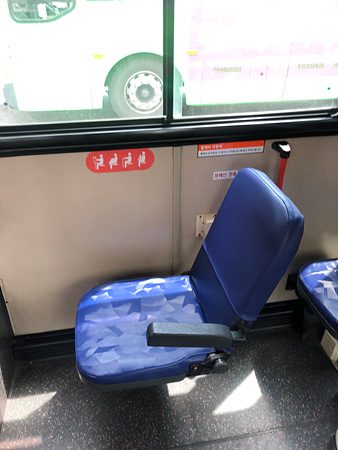seat: (75, 167, 301, 387)
